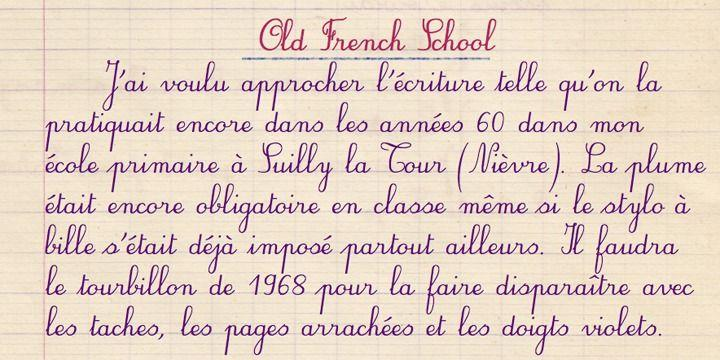text: (42, 261, 697, 318), (43, 138, 709, 194), (43, 180, 694, 236), (43, 221, 682, 276), (42, 304, 664, 357), (42, 100, 647, 152), (100, 58, 666, 112), (257, 15, 499, 53)
